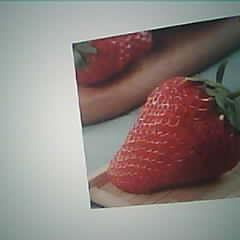straw-ripe: (107, 77, 236, 189)
